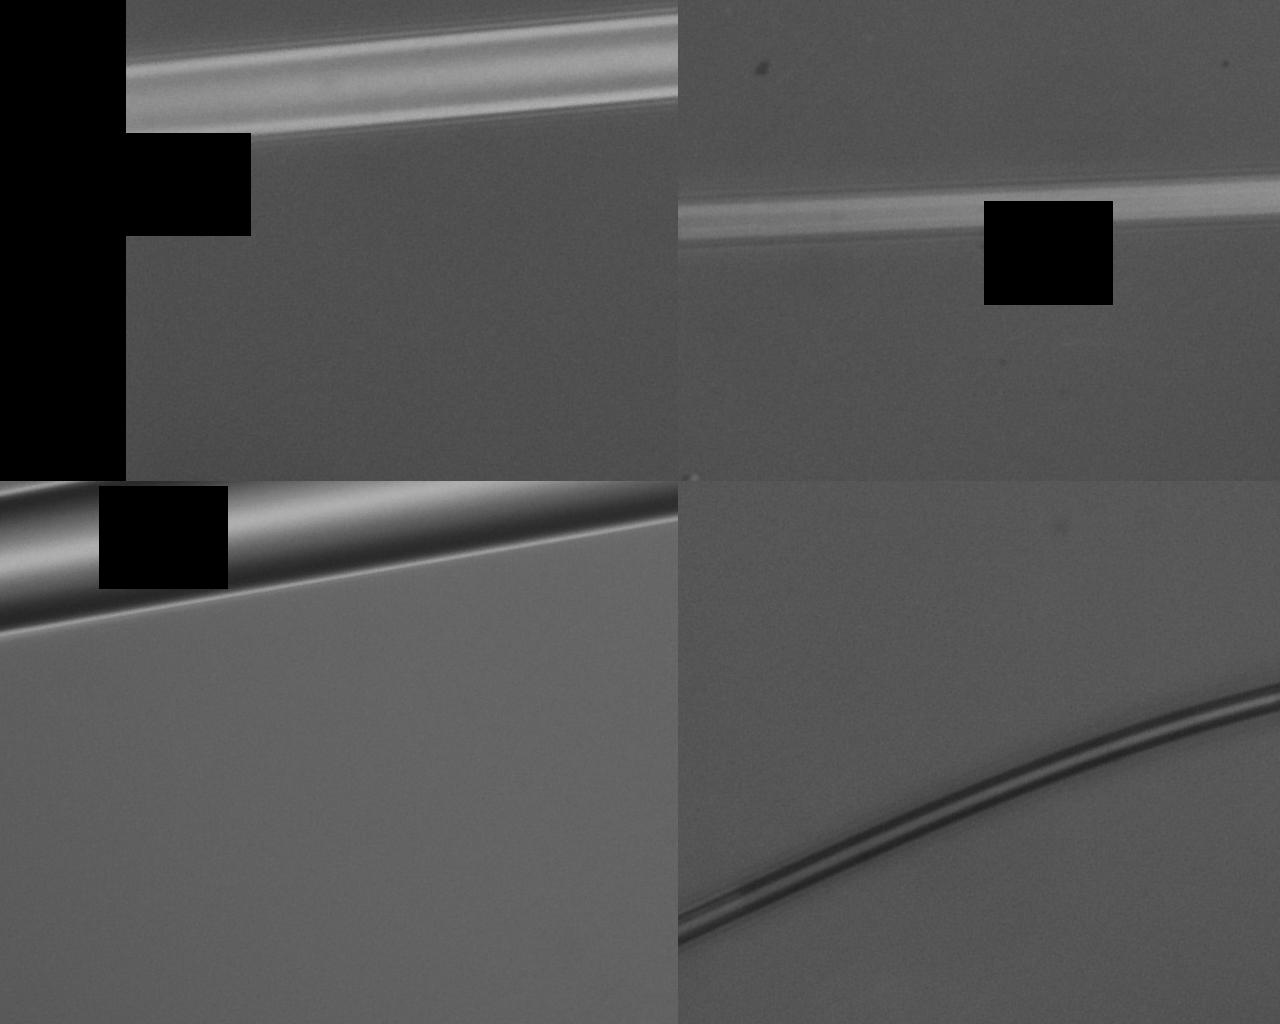fiber: (23, 409, 458, 1024), (768, 798, 979, 1024)
